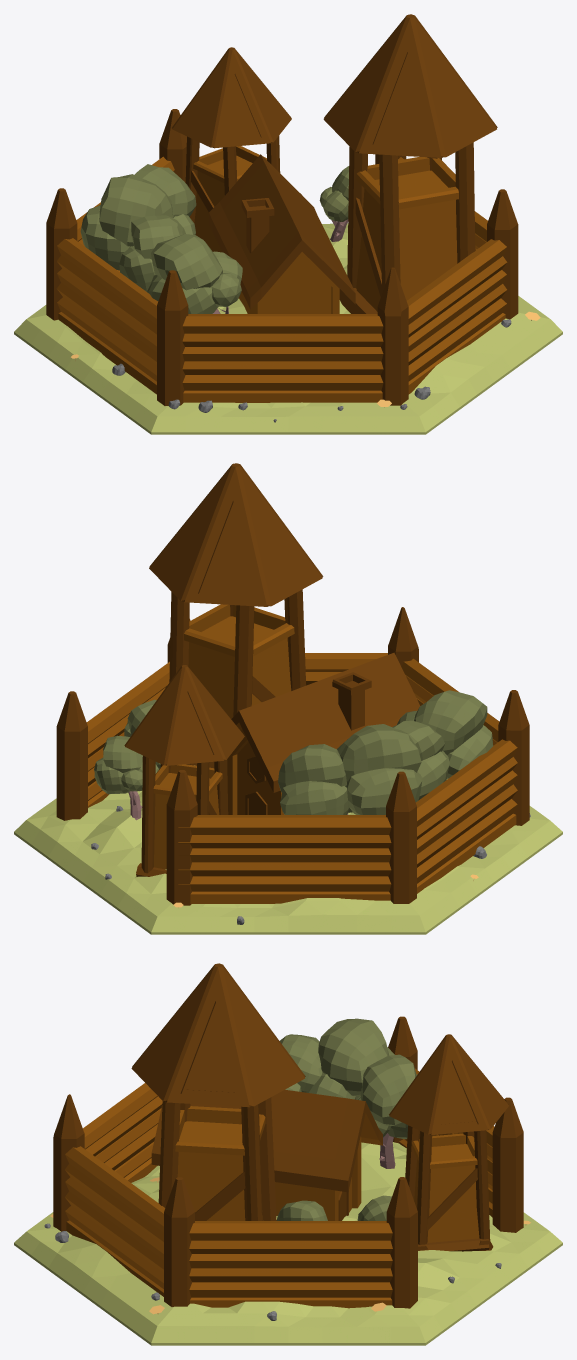
The model's file is castle0.glb.
3 renders of one model, top to bottom at view 1: azimuth 30°, elevation 25°; view 2: azimuth 150°, elevation 25°; view 3: azimuth 270°, elevation 25°, orthographic.
Parts seen in each view (by area): view 1: land; view 2: land; view 3: land.
Part boxes in pixels (x1,y1,x2,y2): land: (14,14,562,434); land: (14,463,562,934); land: (14,963,562,1345).
Bounding box in the file's own units: 1.73 × 1.3 × 2.
1 material, 1 textured.
